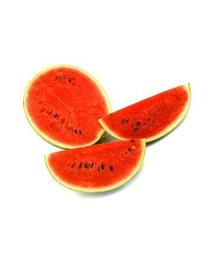watermelon: (23, 62, 192, 195)
